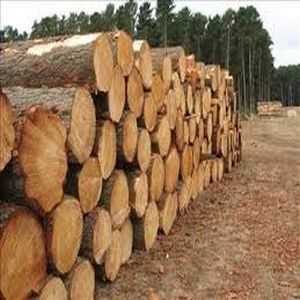log: (12, 104, 68, 221), (1, 206, 46, 300), (65, 86, 100, 169), (49, 195, 84, 276), (76, 156, 104, 216), (94, 114, 118, 183), (90, 31, 115, 94), (88, 209, 115, 265), (108, 169, 132, 231), (124, 66, 146, 121), (67, 259, 94, 300), (120, 109, 140, 164), (108, 65, 127, 121), (115, 30, 137, 76), (147, 154, 166, 204), (136, 127, 154, 174), (133, 173, 150, 218), (156, 114, 173, 159)
